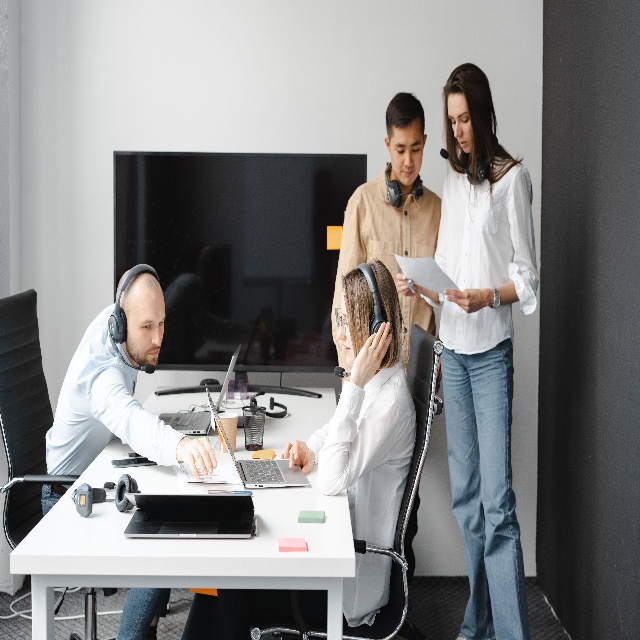Gafas: (335, 306, 349, 337)
Sin_guantes: (350, 315, 393, 387), (184, 434, 217, 481), (442, 284, 487, 314), (281, 438, 315, 476), (395, 269, 420, 298)
